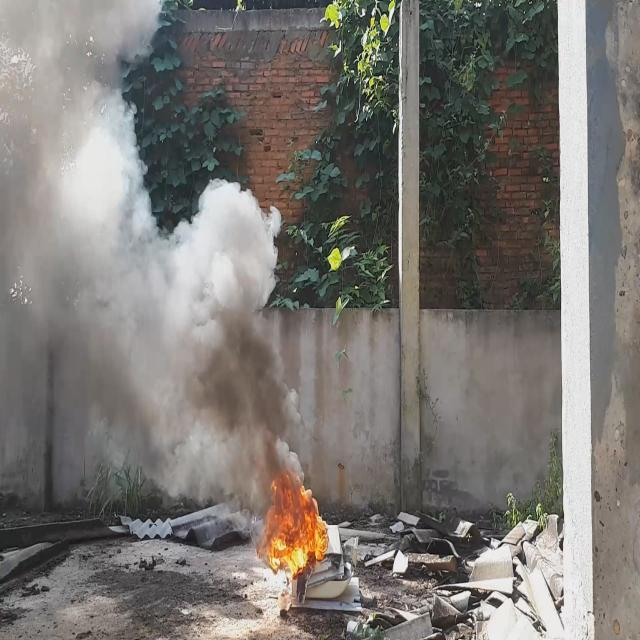Fire: (253, 460, 332, 580)
Smoke: (0, 0, 307, 516)
